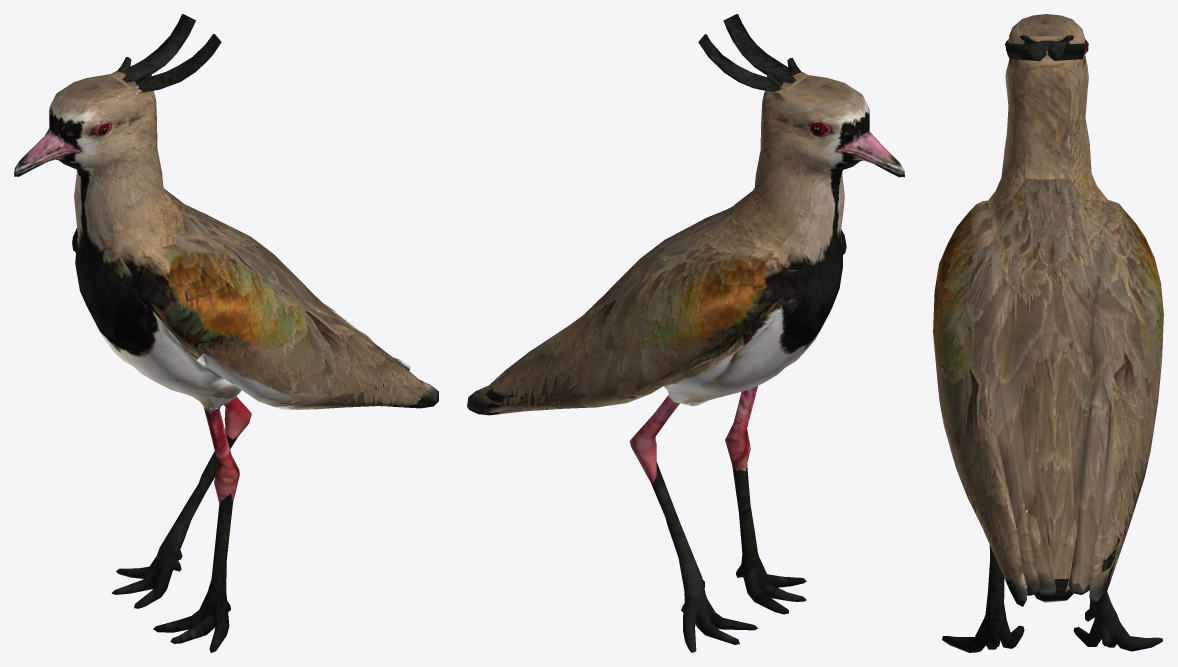
Rendered from Tero_dos.glb.
3 views of the same model, side by side, from view 1: azimuth 30°, elevation 25°; view 2: azimuth 150°, elevation 25°; view 3: azimuth 270°, elevation 25° (orthographic). The views are drawn at different scales.
Parts seen in each view (by area): view 1: TzI1J9jWKgtNKumVl671o.002; view 2: TzI1J9jWKgtNKumVl671o.002; view 3: TzI1J9jWKgtNKumVl671o.002.
Boxes of the visible parts, <box> form: TzI1J9jWKgtNKumVl671o.002: <box>14,14,438,652</box>; TzI1J9jWKgtNKumVl671o.002: <box>467,14,904,652</box>; TzI1J9jWKgtNKumVl671o.002: <box>933,14,1163,652</box>.
Bounding box in the file's own units: 1.97 × 2.63 × 0.8911.
1 material, 1 textured.
